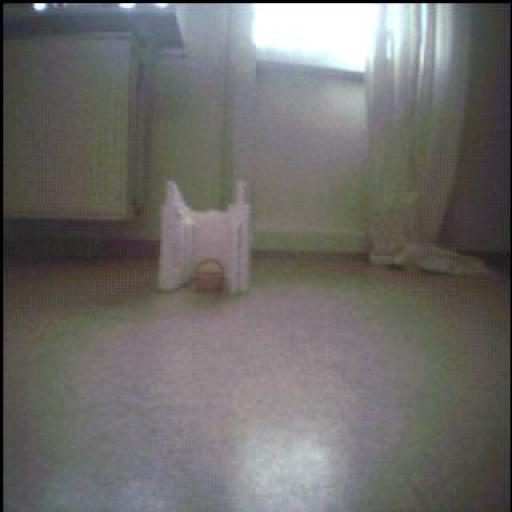Basket: (195, 259, 225, 294)
